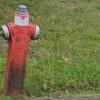a fire hydrant: (4, 5, 36, 90)
